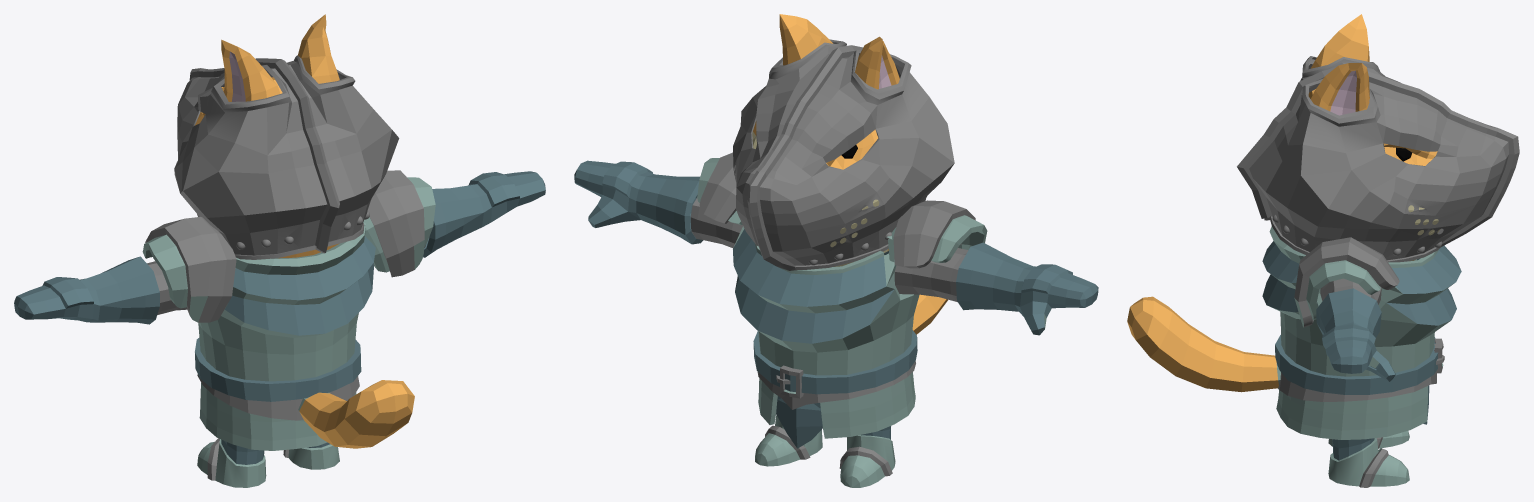
File: Base_Armor_1_SEP_1.060_Scale_.fbx
3 renders of one model, left to right at view 1: azimuth 30°, elevation 25°; view 2: azimuth 150°, elevation 25°; view 3: azimuth 270°, elevation 25°, orthographic. The views are drawn at different scales.
Parts seen in each view (by area): view 1: polySurface1.002, Helmet 1.004, polySurface1.026, polySurface1.003, polySurface1.029, polySurface1.021, polySurface1.009, polySurface1.024; view 2: polySurface1.002, Helmet 1.004, polySurface1.003, polySurface1.021, polySurface1.026, polySurface1.009, polySurface1.029, polySurface1.024; view 3: Helmet 1.004, polySurface1.002, polySurface1.021, polySurface1.029, polySurface1.024.
Boxes of the visible parts, x1,y1,x2,y2 form: polySurface1.002: [147, 14, 425, 450]; Helmet 1.004: [174, 55, 399, 259]; polySurface1.026: [142, 217, 236, 322]; polySurface1.003: [14, 256, 159, 324]; polySurface1.029: [363, 170, 435, 277]; polySurface1.021: [423, 171, 545, 257]; polySurface1.009: [197, 438, 266, 487]; polySurface1.024: [283, 442, 339, 469]; polySurface1.002: [690, 14, 968, 448]; Helmet 1.004: [733, 39, 954, 270]; polySurface1.003: [956, 242, 1098, 335]; polySurface1.021: [574, 160, 703, 244]; polySurface1.026: [888, 200, 987, 268]; polySurface1.009: [839, 426, 895, 487]; polySurface1.029: [697, 152, 742, 224]; polySurface1.024: [755, 415, 822, 466]; Helmet 1.004: [1237, 56, 1519, 262]; polySurface1.002: [1127, 14, 1461, 439]; polySurface1.021: [1316, 288, 1395, 381]; polySurface1.029: [1294, 237, 1399, 327]; polySurface1.024: [1328, 438, 1409, 487].
Size of the model in its own units: 179 by 144 by 122.
